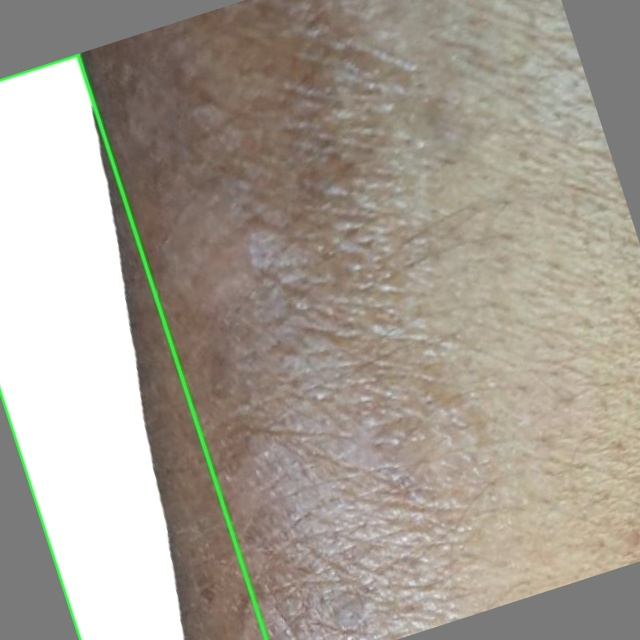Tinea Corporis: (0, 54, 266, 639)
